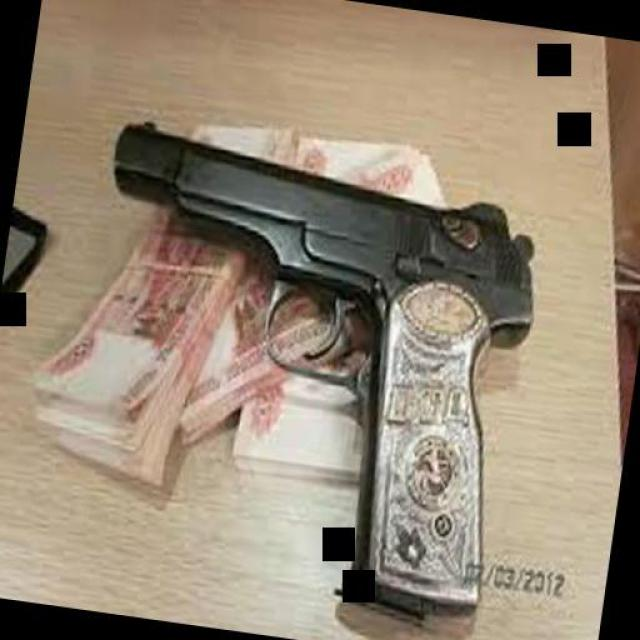gun: (0, 0, 640, 640), (49, 96, 556, 639)
